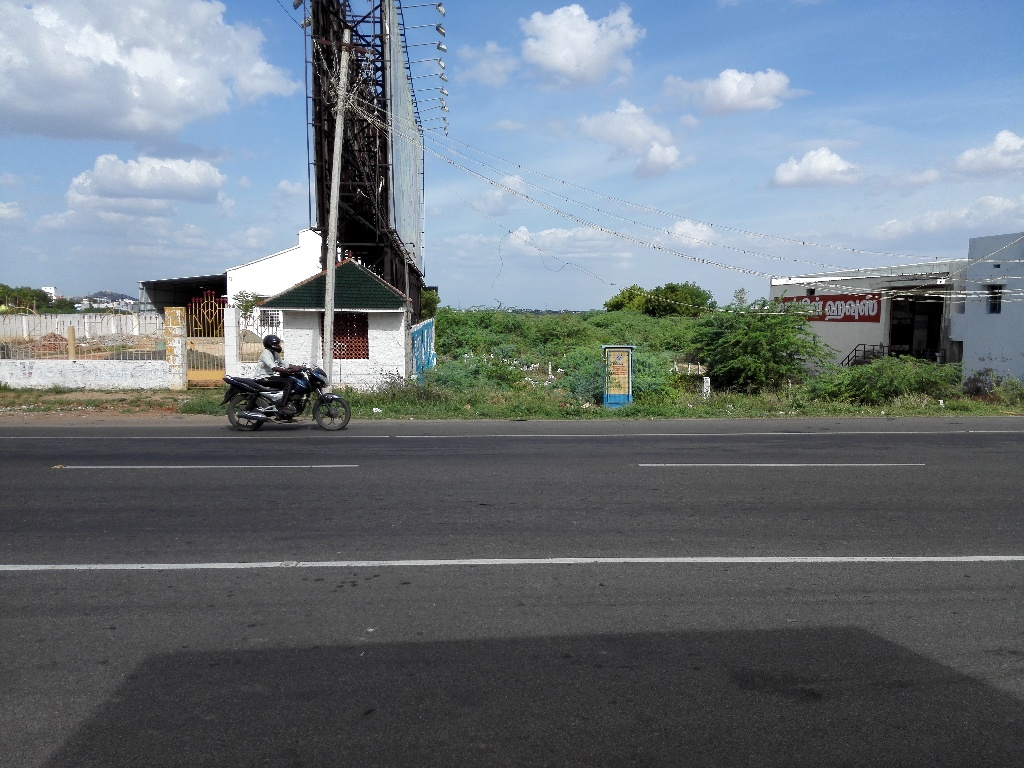biker: (207, 309, 365, 450)
helmet: (261, 330, 288, 365)
